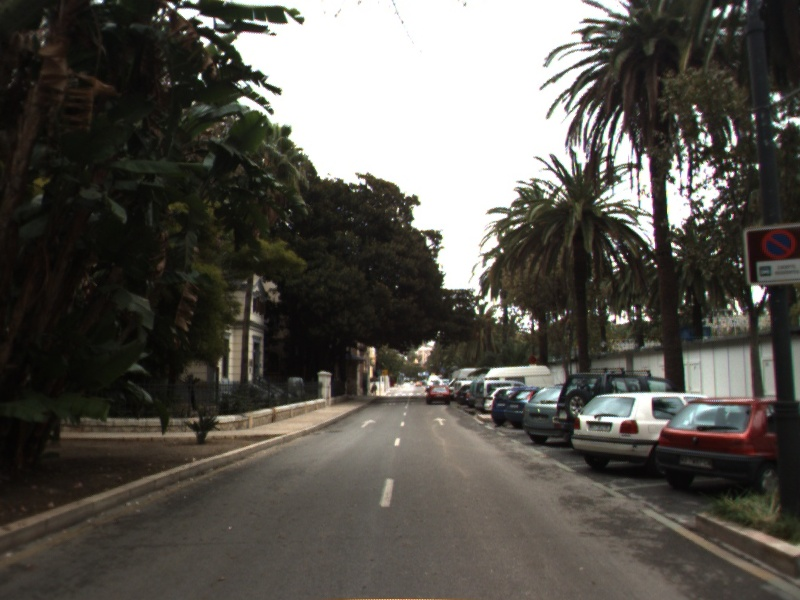STRAIGHT: (358, 417, 379, 430), (431, 415, 450, 427)
